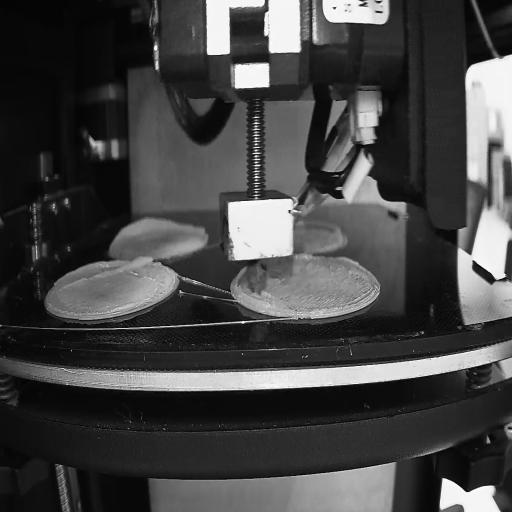over_extrusion: (61, 251, 155, 289), (112, 214, 208, 246), (230, 268, 270, 308), (297, 219, 344, 244), (328, 254, 362, 268)
